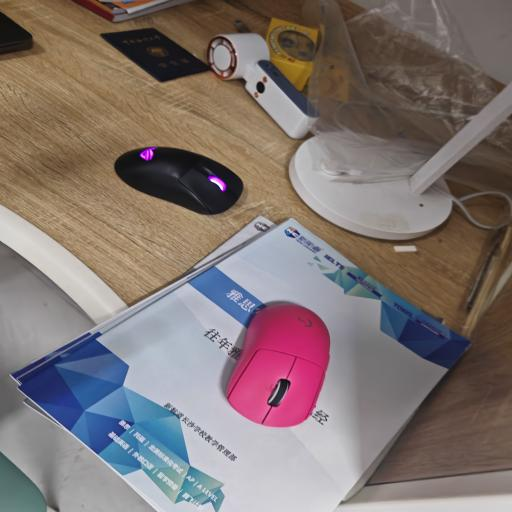mouse: (226, 303, 330, 427), (114, 147, 243, 214)
